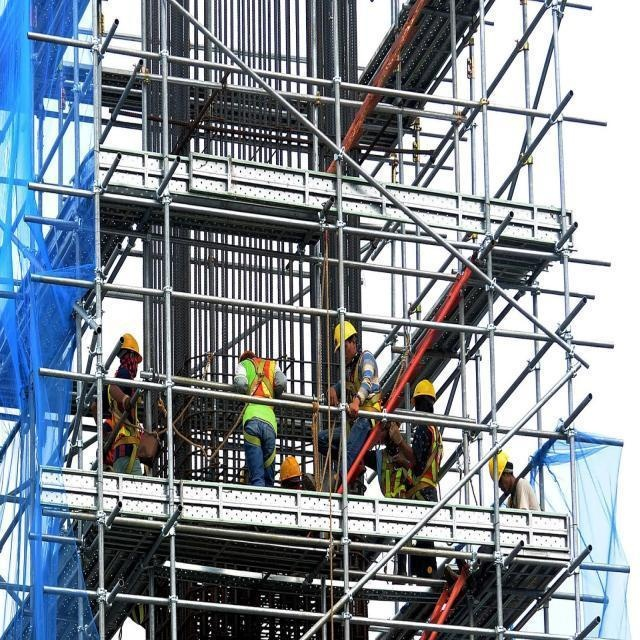Arnes_seguridad: (336, 351, 376, 441), (243, 360, 275, 468), (108, 375, 141, 476), (415, 420, 443, 496), (386, 452, 409, 503)
